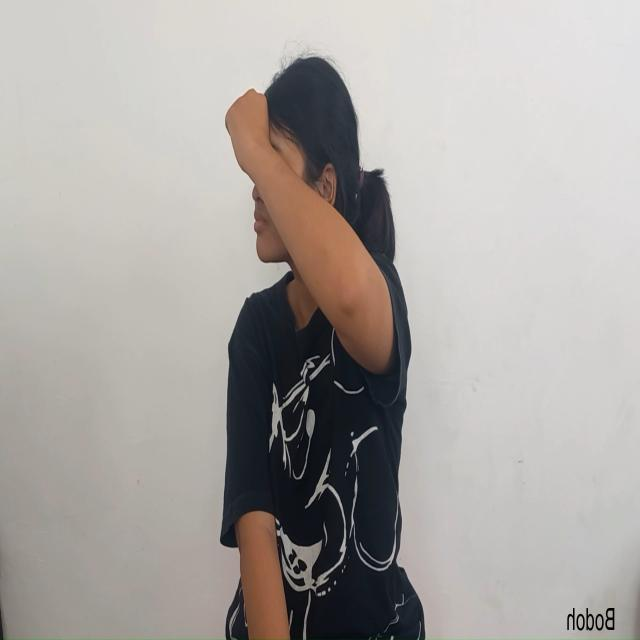Bodoh -BISINDO-: (207, 54, 374, 349)
